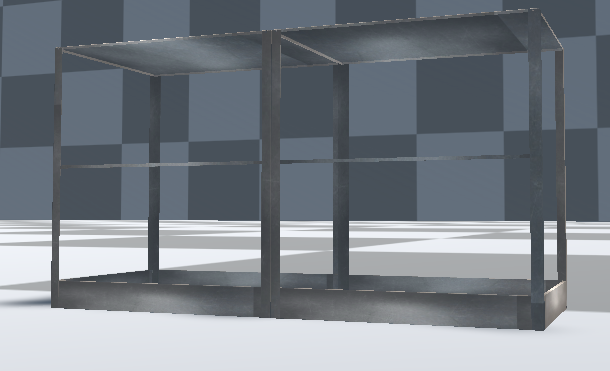Rack: (42, 5, 576, 334)
